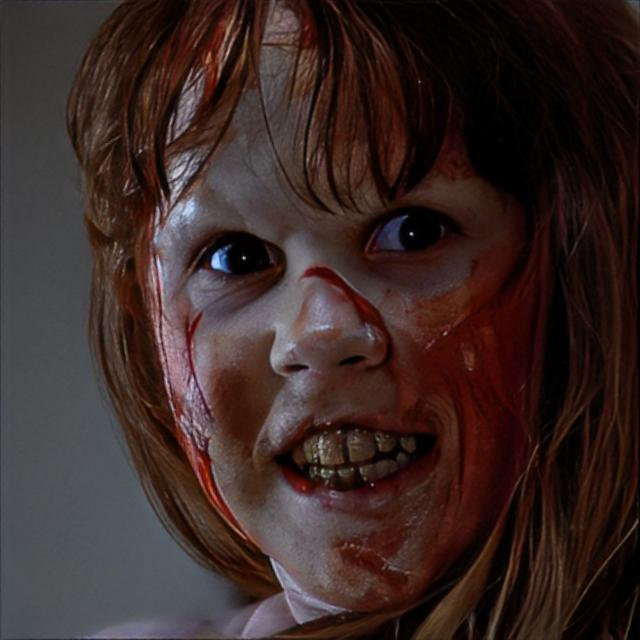surprise: (138, 0, 550, 612)
